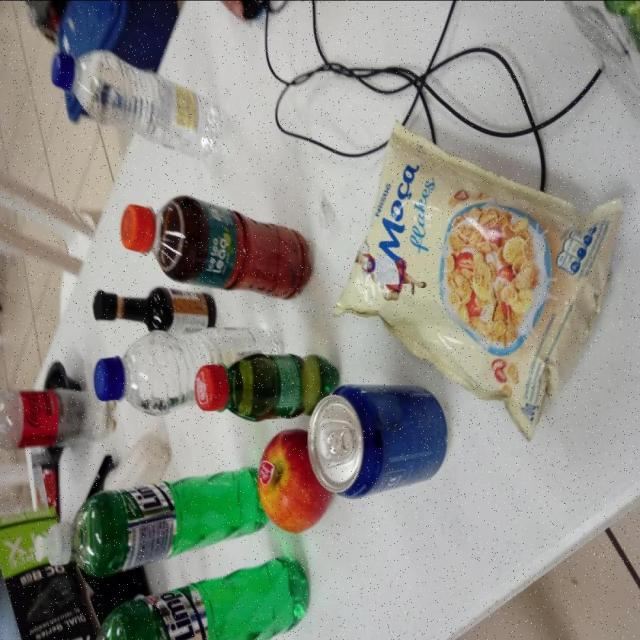Apple: (260, 431, 334, 533)
Cleaner: (51, 462, 274, 576), (78, 550, 315, 640)
CornFlakes: (330, 120, 624, 431)
EnglishSauce: (98, 287, 216, 333)
Guarana: (199, 352, 338, 420)
IceTea: (122, 192, 311, 298)
Tonic: (306, 381, 453, 501)
Water: (51, 49, 228, 164), (93, 321, 282, 417)
